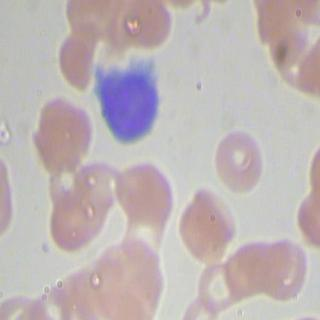RBC: (26, 94, 96, 174), (177, 184, 240, 262), (111, 152, 174, 230), (211, 126, 268, 194), (257, 238, 307, 302), (50, 32, 99, 90), (46, 192, 95, 250), (123, 0, 172, 56), (197, 258, 234, 312)
WBC: (80, 50, 167, 146)
